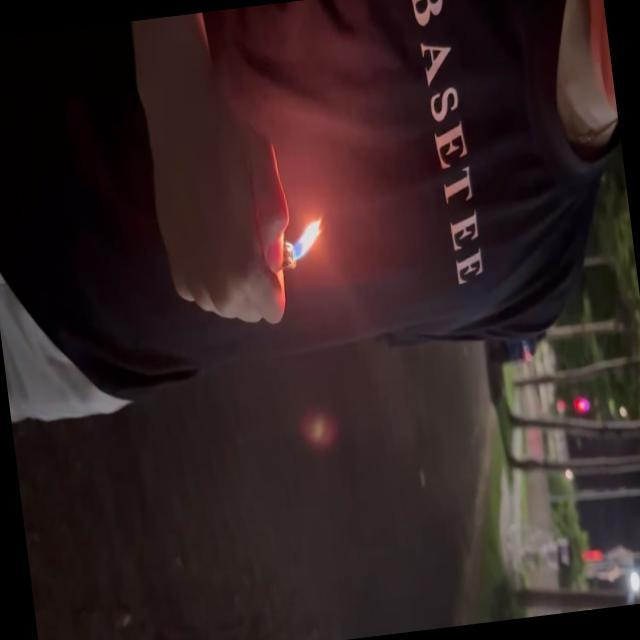Fire: (287, 213, 331, 270)
